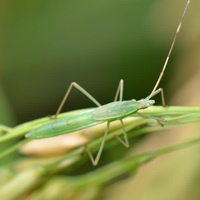insect: (19, 0, 189, 165), (19, 80, 154, 165)
